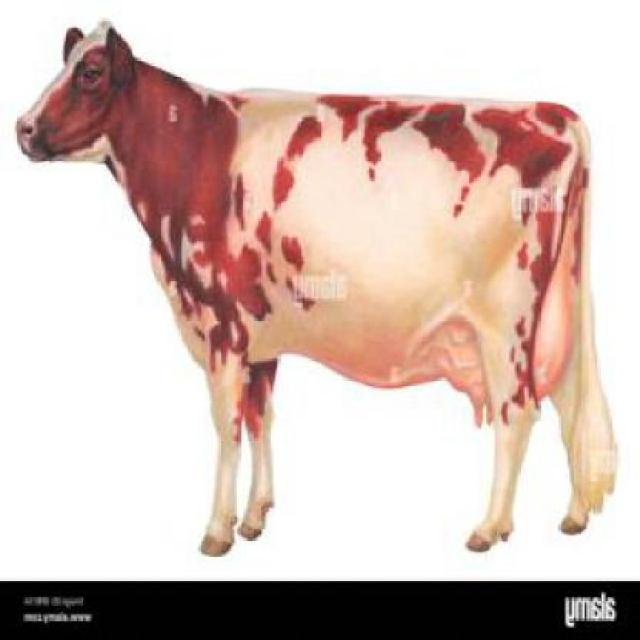Cow: (14, 16, 621, 558)
